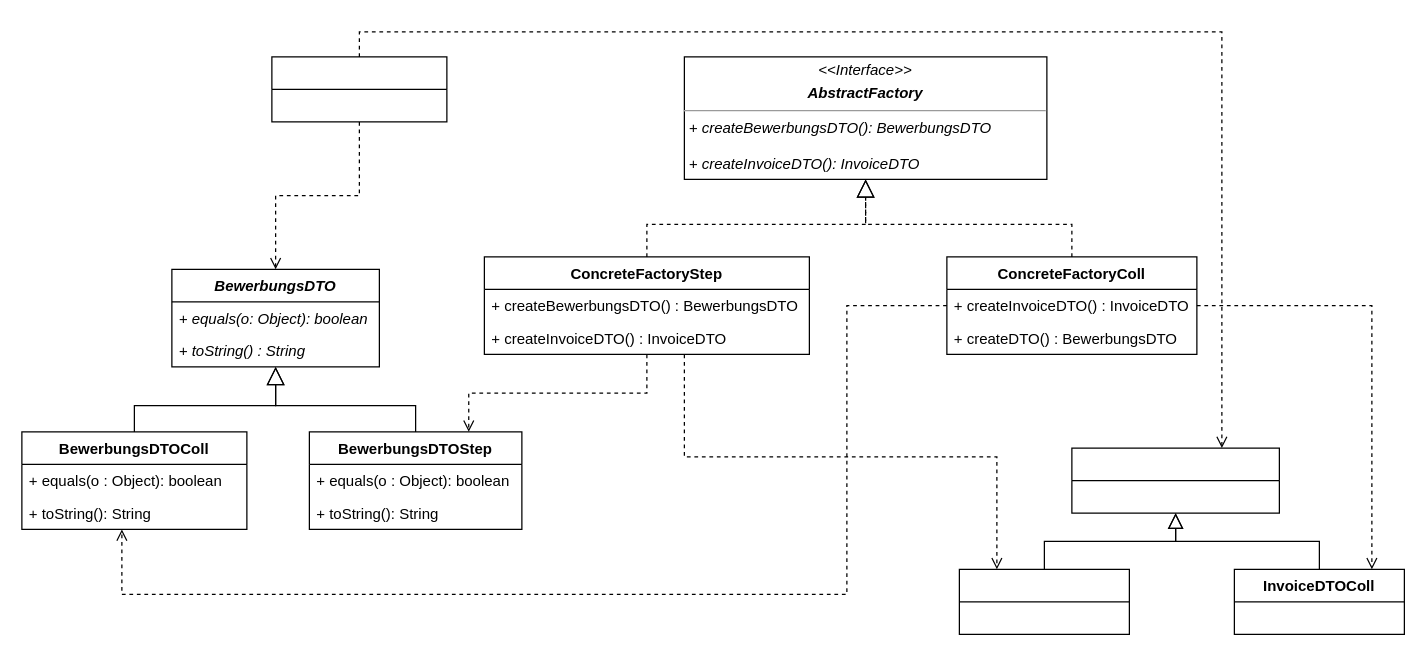
The diagram is 1426 pixels wide and 656 high, and some of its shapes have lost their labels. The shapes that lost their labels are listed below. From the top down, each one's centre as x and y in pixels, then its label:
the point at 359,89: ManagementControl
the point at 1175,480: InvoiceDTO
the point at 1043,601: InvoiceDTOStep
